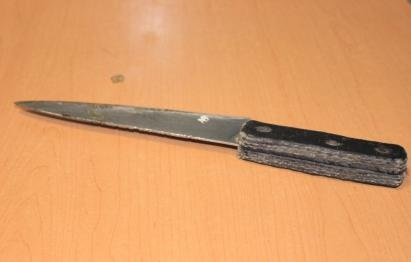knife: (10, 96, 259, 160)
